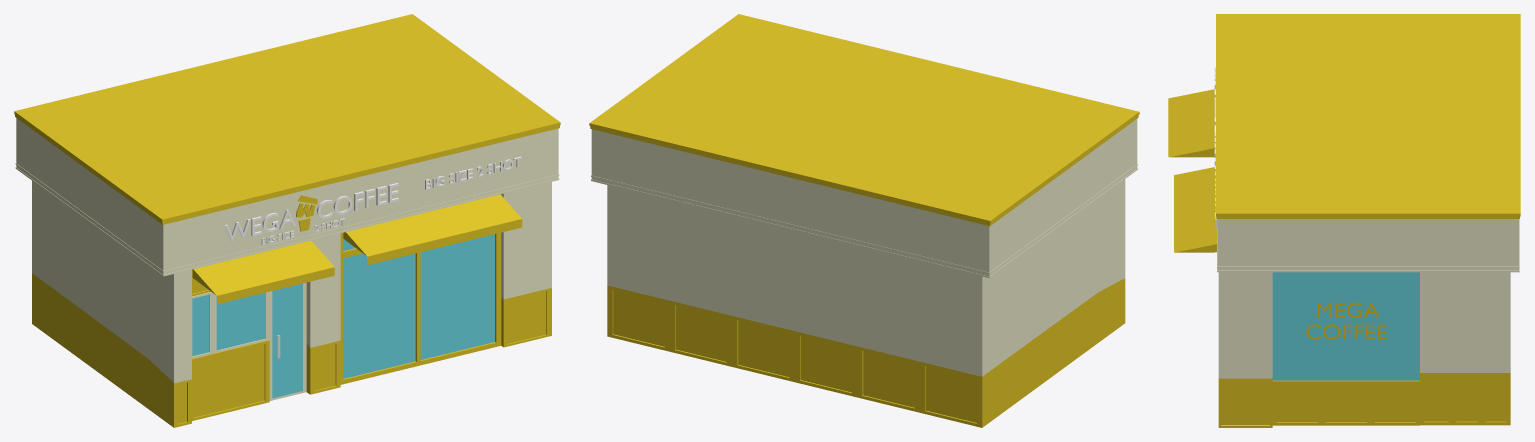
Rendered from MEGAcoffeeblend2.fbx.
The picture shows the model from 3 angles, left to right: view 1: azimuth 30°, elevation 25°; view 2: azimuth 150°, elevation 25°; view 3: azimuth 270°, elevation 25°; orthographic projection. The views are drawn at different scales.
Visible parts, largest first — view 1: Cube.006, Cube.001, Cube.005, Cube.002, Cube.004, Cube.003, Text, Text.001; view 2: Cube.001, Cube.006, Cube.005; view 3: Cube.006, Cube.001, Cube.005, Cube.002, Cube.007, Text.003.
Part boxes in pixels (box(x1,y1,x2,y2)): Cube.006: box(14, 14, 560, 224); Cube.001: box(15, 118, 559, 383); Cube.005: box(32, 194, 551, 427); Cube.002: box(192, 234, 494, 398); Cube.004: box(340, 194, 501, 384); Cube.003: box(192, 282, 306, 400); Text: box(224, 183, 398, 241); Text.001: box(425, 156, 521, 189); Cube.001: box(591, 119, 1137, 376); Cube.006: box(589, 14, 1139, 226); Cube.005: box(607, 278, 1125, 427); Cube.006: box(1216, 14, 1520, 218); Cube.001: box(1217, 219, 1519, 378); Cube.005: box(1168, 89, 1510, 427); Cube.002: box(1272, 272, 1419, 380); Cube.007: box(1276, 384, 1416, 422); Text.003: box(1306, 302, 1387, 339).
Bounding box in the file's own units: 1978 × 1007 × 1474.
